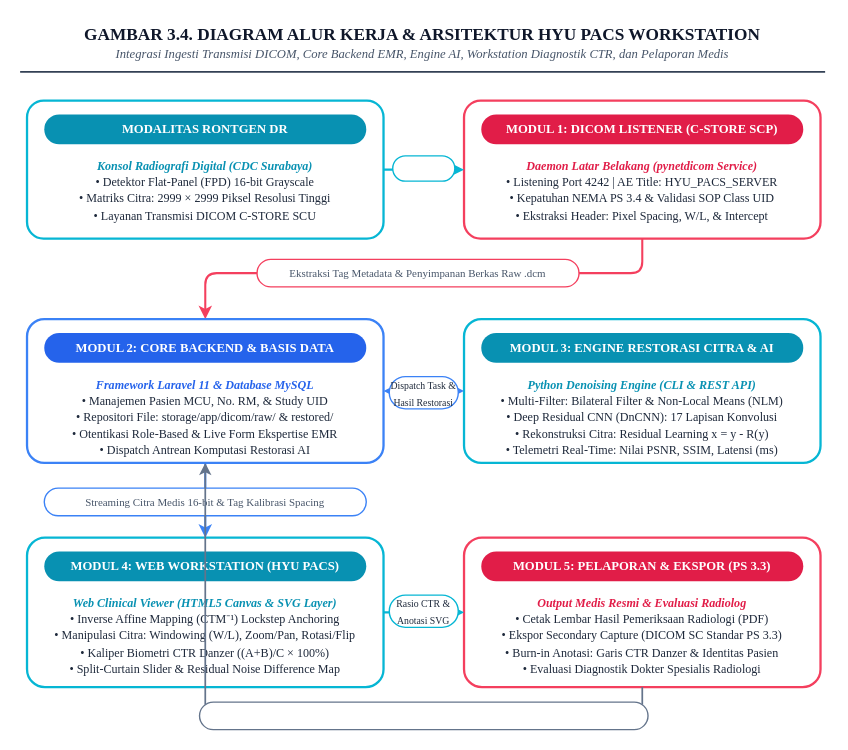
The diagram is 848 pixels wide and 750 high, and some of its shapes have lost their labels. Here are the shapes that lost their labels. From the top down, the centre of each, then its label:
At (x=423, y=168): "TCP/IP LAN".
At (x=423, y=715): "Sinkronisasi Status Diagnostik & Laporan Ekspertise ke Rekam Medis EMR".
